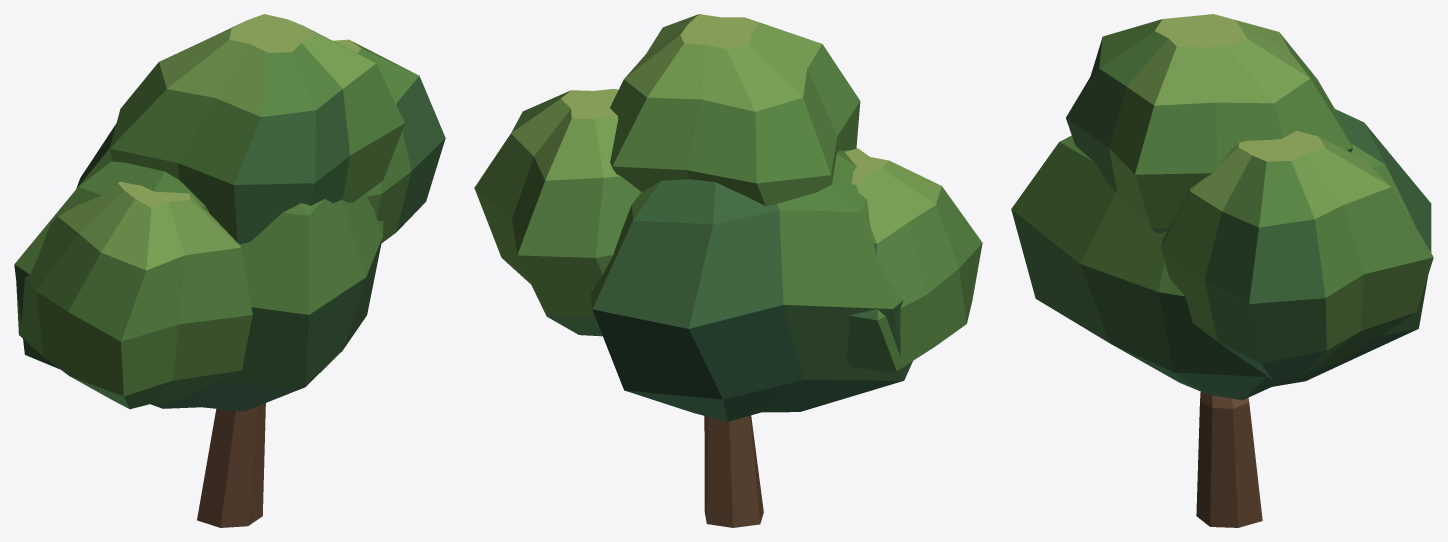
The model's file is Tree_Round_01.fbx.
3 renders of one model, left to right at view 1: azimuth 30°, elevation 25°; view 2: azimuth 150°, elevation 25°; view 3: azimuth 270°, elevation 25°, orthographic. The views are drawn at different scales.
Parts seen in each view (by area): view 1: Tree_Round_01; view 2: Tree_Round_01; view 3: Tree_Round_01.
Boxes of the visible parts, x1,y1,x2,y2 form: Tree_Round_01: (14,14,445,527); Tree_Round_01: (474,14,982,527); Tree_Round_01: (1011,14,1433,527).
Size of the model in its own units: 820 by 892 by 684.
Materials: 1 (1 with a texture image).
